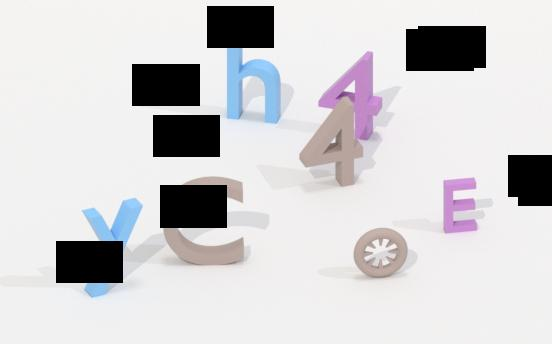4: (291, 100, 374, 190), (317, 49, 383, 141)
E-hoa: (440, 175, 483, 235)
Y: (76, 201, 143, 299)
c: (156, 174, 263, 271)
h: (219, 32, 292, 126)
tron: (352, 226, 413, 278)
